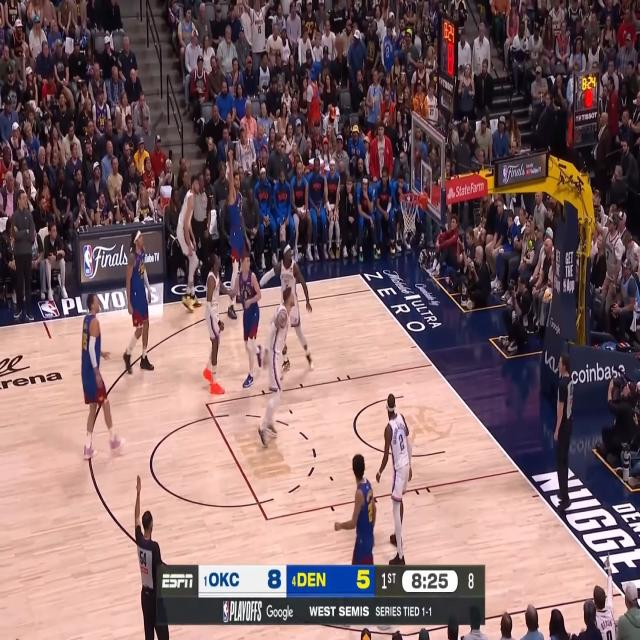ball: (334, 35, 345, 54)
number: (398, 433, 405, 451)
player: (334, 454, 392, 631), (78, 290, 124, 460), (258, 243, 315, 374), (258, 286, 297, 450), (376, 393, 413, 565), (122, 230, 155, 373), (202, 254, 234, 395), (231, 251, 262, 388), (228, 148, 252, 320), (176, 175, 202, 312)
referee: (134, 473, 170, 640), (552, 352, 575, 514), (184, 157, 212, 290)
rim: (399, 190, 420, 207)
